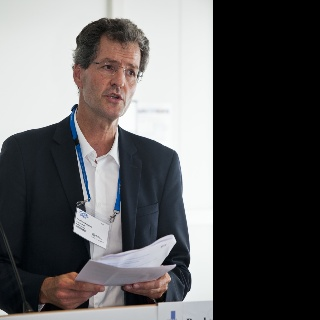without_mask: (81, 40, 141, 120)
